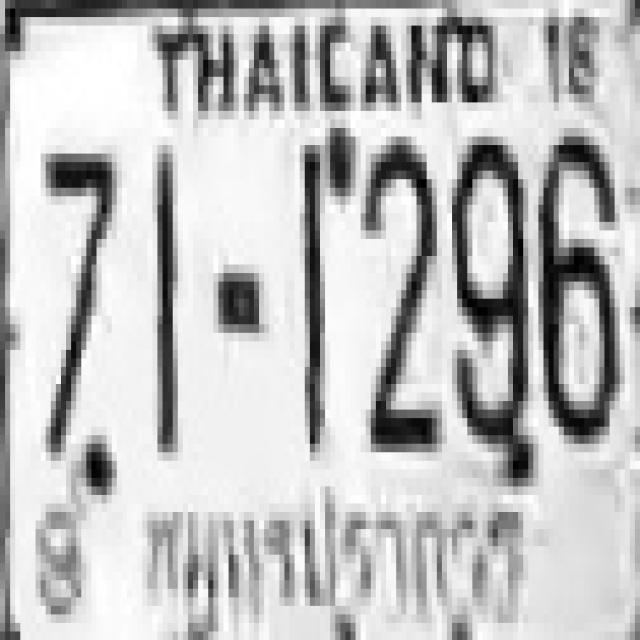1: (297, 137, 338, 452), (152, 145, 178, 452)
2: (358, 136, 434, 444)
6: (536, 128, 617, 435)
7: (40, 145, 116, 452)
9: (447, 132, 528, 465)
SPK: (133, 477, 532, 640)
